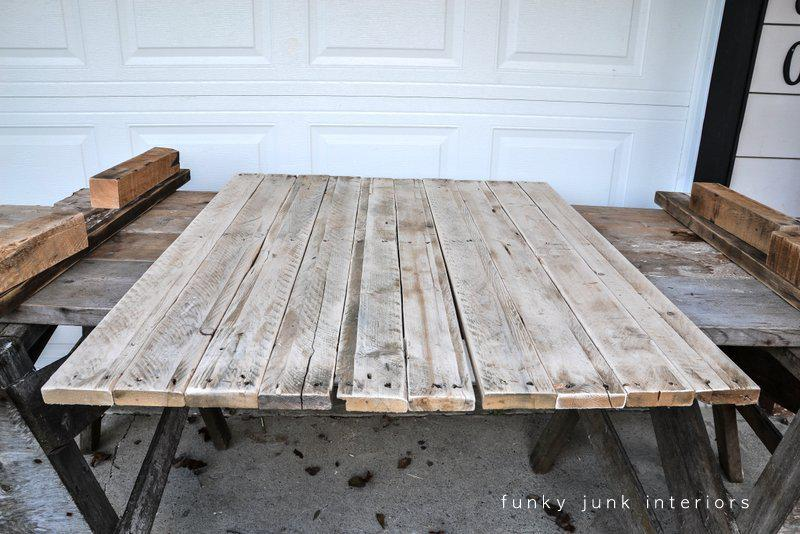wood: (34, 158, 762, 426), (692, 174, 787, 257), (6, 201, 88, 292), (84, 143, 189, 213)
